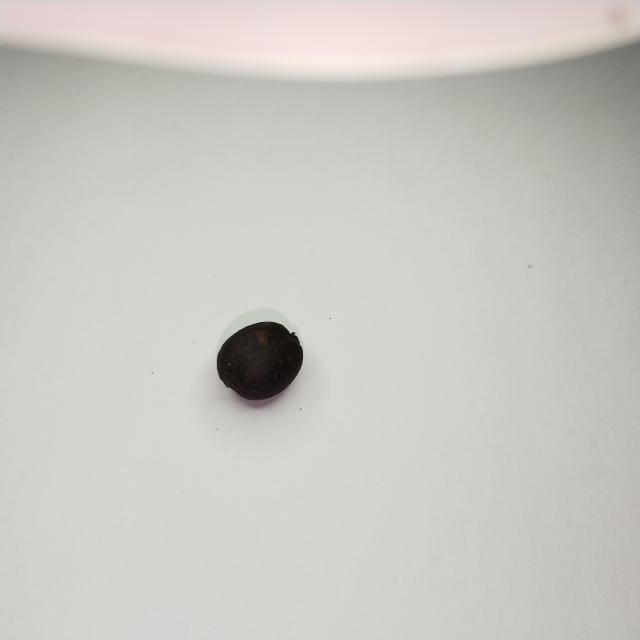Danado: (218, 322, 302, 400)
